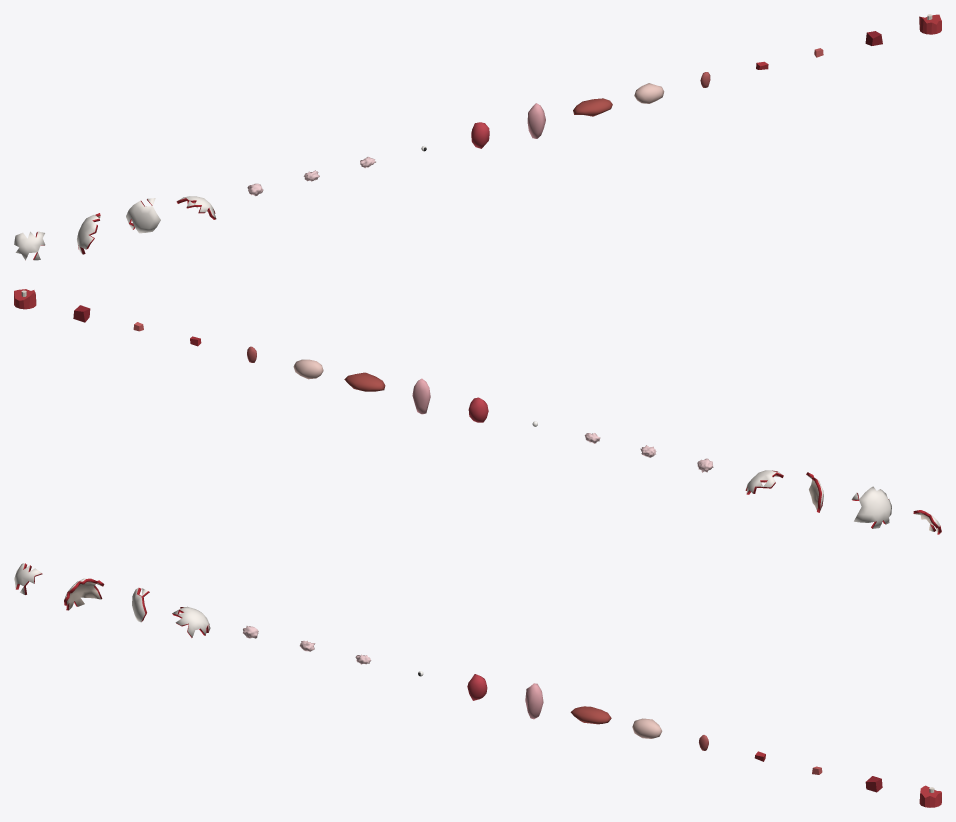
The model's file is gibs.glb.
The picture shows the model from 3 angles, top to bottom: view 1: azimuth 30°, elevation 25°; view 2: azimuth 150°, elevation 25°; view 3: azimuth 330°, elevation 25°; orthographic projection.
Visible parts, largest first — view 1: skull_2, skull_0, skull_1, liver; view 2: skull_1, liver; view 3: skull_1, skull_3, liver.
Boxes of the visible parts, left/top/right/bottom form: skull_2: left=126, top=198, right=160, bottom=233; skull_0: left=14, top=231, right=45, bottom=260; skull_1: left=77, top=213, right=100, bottom=254; liver: left=573, top=98, right=612, bottom=116; skull_1: left=851, top=486, right=891, bottom=528; liver: left=344, top=372, right=385, bottom=391; skull_1: left=64, top=578, right=104, bottom=610; skull_3: left=172, top=606, right=210, bottom=637; liver: left=570, top=706, right=611, bottom=724.
Bounding box in the file's own units: 4.92 × 0.1841 × 0.1925.
